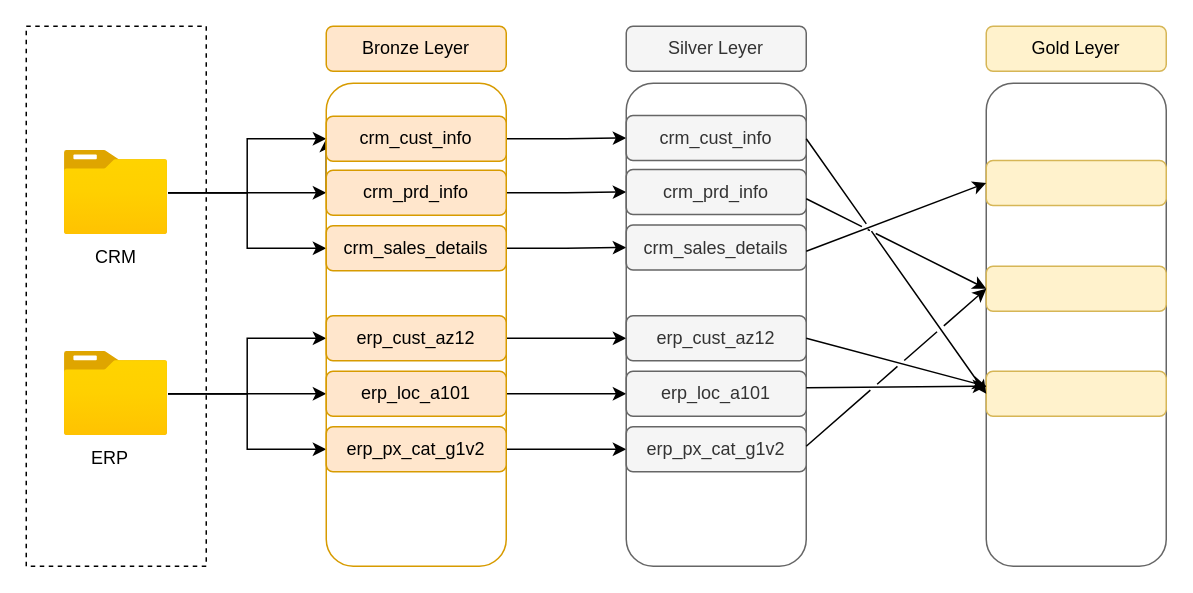
This 1193x593 diagram has some shape labels left out. Each missing label, with the centre of its shape:
"dim_customers" belongs at (1075,393).
"dim_products" belongs at (1075,288).
"fact_sales" belongs at (1075,182).
